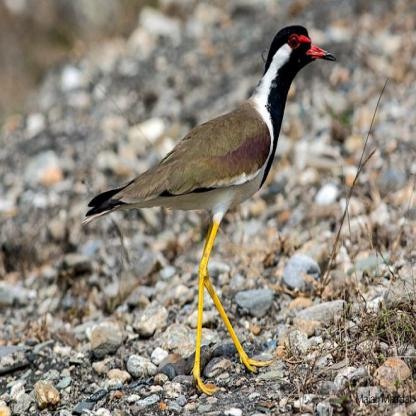Burung: (82, 25, 336, 396)
